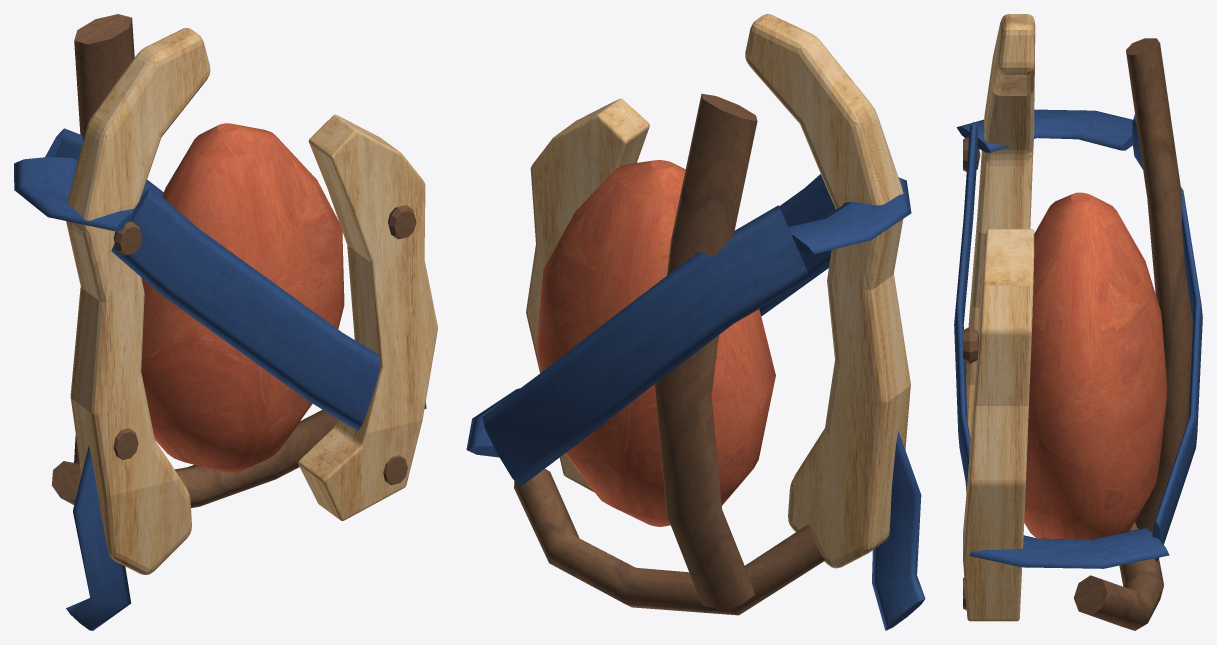
The model's file is hybrid_carved_hull.obj.
3 views of the same model, side by side, from view 1: azimuth 30°, elevation 25°; view 2: azimuth 150°, elevation 25°; view 3: azimuth 270°, elevation 25° (orthographic). The views are drawn at different scales.
Parts seen in each view (by area): view 1: CORE_OrganicVolume.001_hybrid_carved_hull_core, HULL_left.001_hybrid_carved_hull_outer, HULL_right.001_hybrid_carved_hull_outer, BINDING_FrontDiagonal.001_hybrid_carved_hull_binding, BASE_Cradle.001_hybrid_carved_hull_spine, BINDING_FoldedTail.001_hybrid_carved_hull_binding, BACK_SupportSpine.001_hybrid_carved_hull_spine, BINDING_LeftReturn.001_hybrid_carved_hull_binding, BINDING_BackDiagonal.001_hybrid_carved_hull_binding, FASTENER_2.001_hybrid_carved_hull_spine, FASTENER_0.001_hybrid_carved_hull_spine, FASTENER_1.001_hybrid_carved_hull_spine; view 2: HULL_left.001_hybrid_carved_hull_outer, CORE_OrganicVolume.001_hybrid_carved_hull_core, BINDING_BackDiagonal.001_hybrid_carved_hull_binding, BACK_SupportSpine.001_hybrid_carved_hull_spine, BASE_Cradle.001_hybrid_carved_hull_spine, HULL_right.001_hybrid_carved_hull_outer, BINDING_FoldedTail.001_hybrid_carved_hull_binding, BINDING_LeftReturn.001_hybrid_carved_hull_binding, BINDING_FrontDiagonal.001_hybrid_carved_hull_binding, BINDING_RightReturn.001_hybrid_carved_hull_binding; view 3: CORE_OrganicVolume.001_hybrid_carved_hull_core, HULL_right.001_hybrid_carved_hull_outer, BACK_SupportSpine.001_hybrid_carved_hull_spine, HULL_left.001_hybrid_carved_hull_outer, BINDING_RightReturn.001_hybrid_carved_hull_binding, BINDING_BackDiagonal.001_hybrid_carved_hull_binding, BASE_Cradle.001_hybrid_carved_hull_spine, BINDING_LeftReturn.001_hybrid_carved_hull_binding, BINDING_FrontDiagonal.001_hybrid_carved_hull_binding, FASTENER_2.001_hybrid_carved_hull_spine.
Boxes of the visible parts, x1,y1,x2,y2 form: CORE_OrganicVolume.001_hybrid_carved_hull_core: [141, 123, 344, 473]; HULL_left.001_hybrid_carved_hull_outer: [66, 28, 210, 574]; HULL_right.001_hybrid_carved_hull_outer: [298, 114, 437, 520]; BINDING_FrontDiagonal.001_hybrid_carved_hull_binding: [111, 187, 379, 431]; BASE_Cradle.001_hybrid_carved_hull_spine: [52, 410, 336, 507]; BINDING_FoldedTail.001_hybrid_carved_hull_binding: [66, 445, 131, 630]; BACK_SupportSpine.001_hybrid_carved_hull_spine: [74, 14, 141, 464]; BINDING_LeftReturn.001_hybrid_carved_hull_binding: [14, 157, 134, 231]; BINDING_BackDiagonal.001_hybrid_carved_hull_binding: [45, 128, 163, 196]; FASTENER_2.001_hybrid_carved_hull_spine: [388, 205, 416, 239]; FASTENER_0.001_hybrid_carved_hull_spine: [113, 221, 142, 255]; FASTENER_1.001_hybrid_carved_hull_spine: [113, 428, 138, 459]; HULL_left.001_hybrid_carved_hull_outer: [745, 14, 910, 568]; CORE_OrganicVolume.001_hybrid_carved_hull_core: [536, 160, 775, 526]; BINDING_BackDiagonal.001_hybrid_carved_hull_binding: [482, 205, 810, 486]; BACK_SupportSpine.001_hybrid_carved_hull_spine: [654, 93, 757, 608]; BASE_Cradle.001_hybrid_carved_hull_spine: [514, 469, 825, 615]; HULL_right.001_hybrid_carved_hull_outer: [526, 98, 649, 492]; BINDING_FoldedTail.001_hybrid_carved_hull_binding: [872, 431, 925, 630]; BINDING_LeftReturn.001_hybrid_carved_hull_binding: [788, 177, 911, 254]; BINDING_FrontDiagonal.001_hybrid_carved_hull_binding: [759, 174, 835, 316]; BINDING_RightReturn.001_hybrid_carved_hull_binding: [466, 388, 520, 457]; CORE_OrganicVolume.001_hybrid_carved_hull_core: [1024, 192, 1167, 539]; HULL_right.001_hybrid_carved_hull_outer: [963, 229, 1034, 621]; BACK_SupportSpine.001_hybrid_carved_hull_spine: [1126, 38, 1192, 532]; HULL_left.001_hybrid_carved_hull_outer: [965, 14, 1035, 493]; BINDING_RightReturn.001_hybrid_carved_hull_binding: [969, 528, 1169, 568]; BINDING_BackDiagonal.001_hybrid_carved_hull_binding: [1132, 114, 1202, 561]; BASE_Cradle.001_hybrid_carved_hull_spine: [1074, 522, 1163, 630]; BINDING_LeftReturn.001_hybrid_carved_hull_binding: [956, 109, 1134, 152]; BINDING_FrontDiagonal.001_hybrid_carved_hull_binding: [954, 121, 977, 488]; FASTENER_2.001_hybrid_carved_hull_spine: [963, 327, 978, 363].
Bounding box in the file's own units: 2.52 × 3.6 × 1.39.
